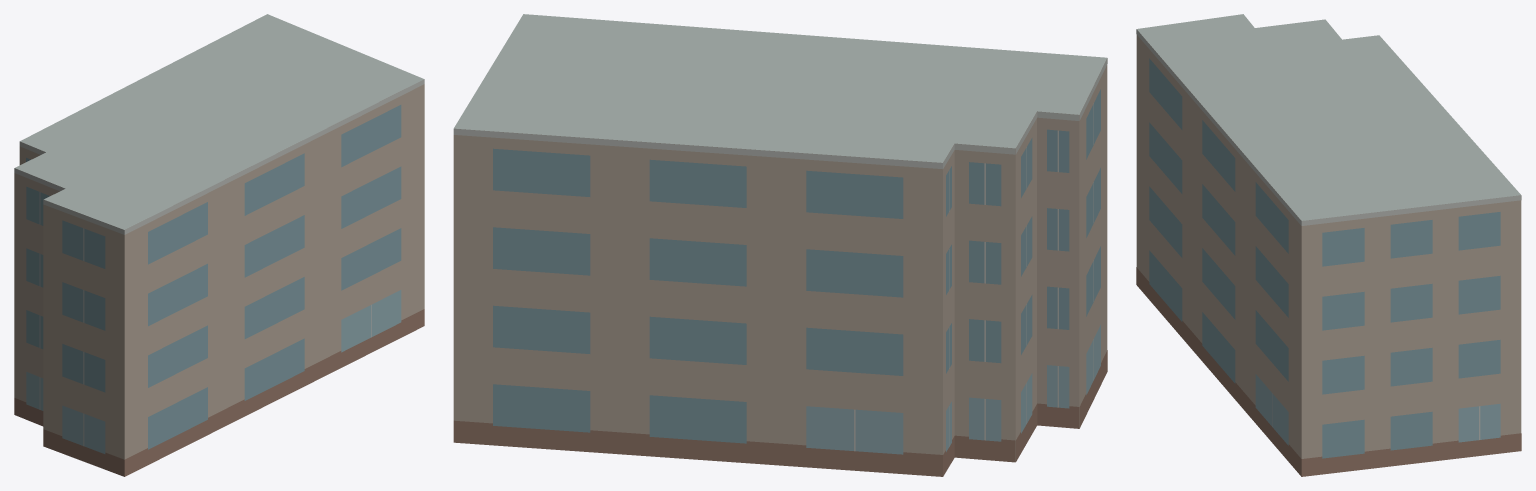
Rendered from survey-upis-32673818.glb.
3 views of the same model, side by side, from view 1: azimuth 30°, elevation 25°; view 2: azimuth 150°, elevation 25°; view 3: azimuth 270°, elevation 25° (orthographic). The views are drawn at different scales.
Visible parts, largest first — view 1: survey-upis-32673818.tmp; view 2: survey-upis-32673818.tmp; view 3: survey-upis-32673818.tmp.
Part boxes in pixels (left/top/right/bottom): survey-upis-32673818.tmp: left=14, top=14, right=424, bottom=476; survey-upis-32673818.tmp: left=453, top=14, right=1107, bottom=476; survey-upis-32673818.tmp: left=1136, top=14, right=1521, bottom=476.
Size of the model in its own units: 21.17 by 12.2 by 16.64.
